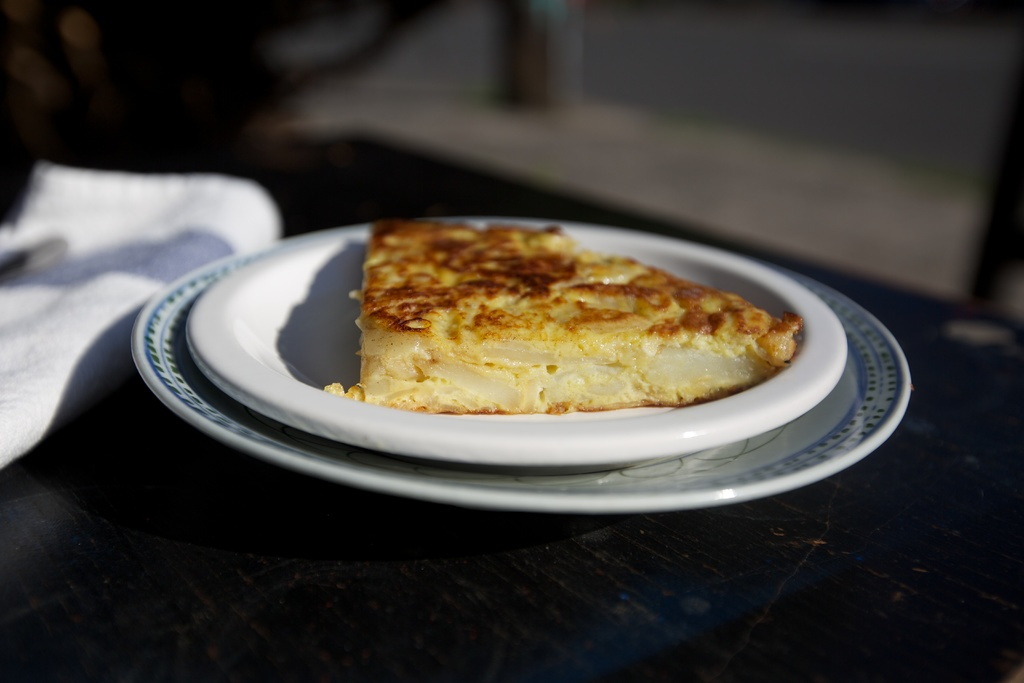plate: (128, 211, 926, 530)
